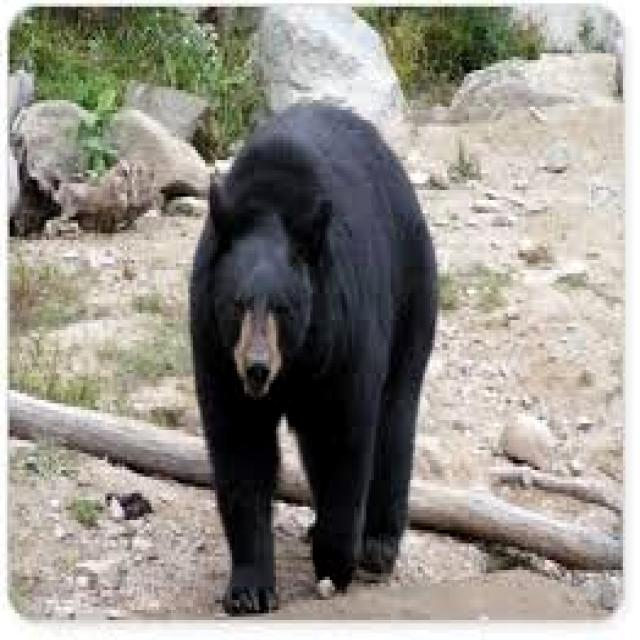bear: (196, 96, 417, 602)
